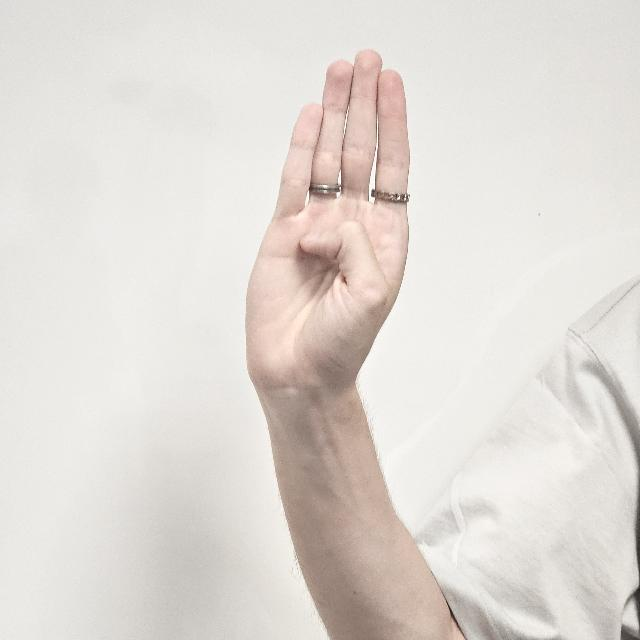Baixo: (245, 48, 408, 394)
